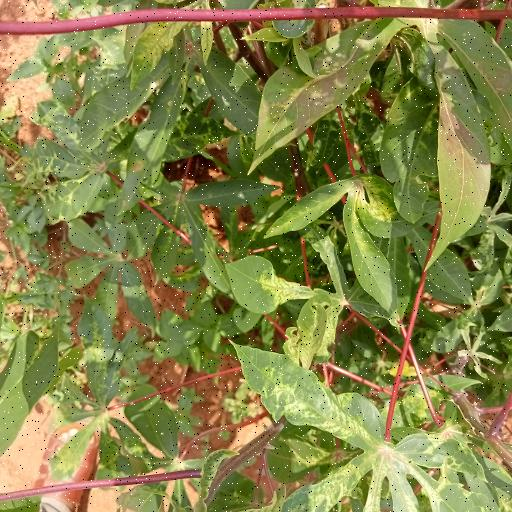Cassava_Healthy: (237, 338, 512, 512), (69, 221, 158, 333)
